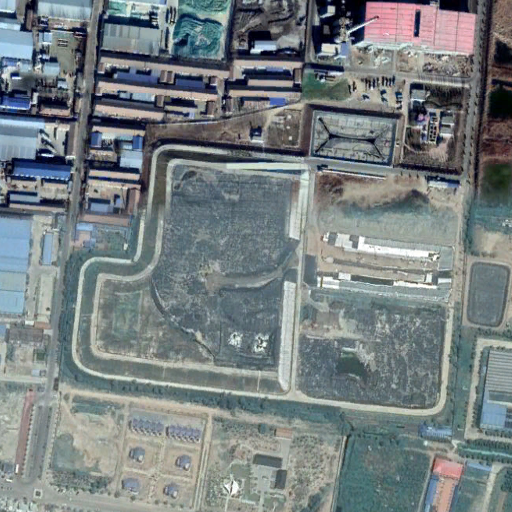lf: (79, 150, 460, 420)
